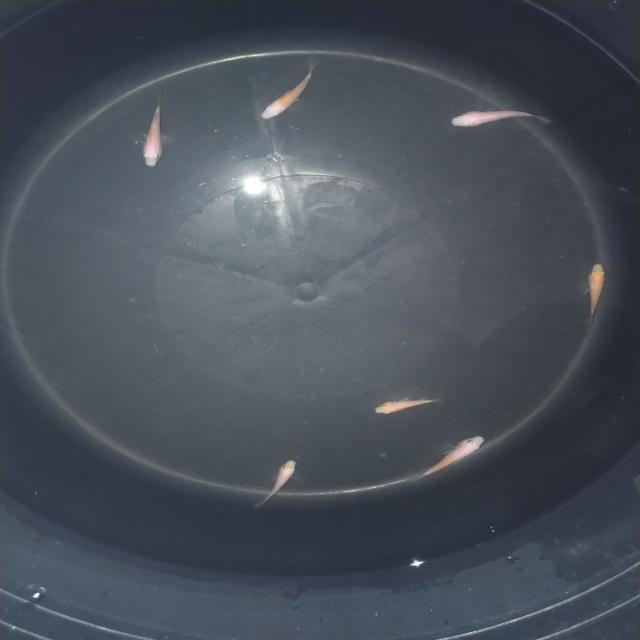nila: (404, 432, 490, 485), (255, 61, 322, 125), (444, 106, 556, 130), (138, 91, 172, 170), (248, 456, 298, 509), (581, 258, 610, 332), (368, 392, 442, 419)
